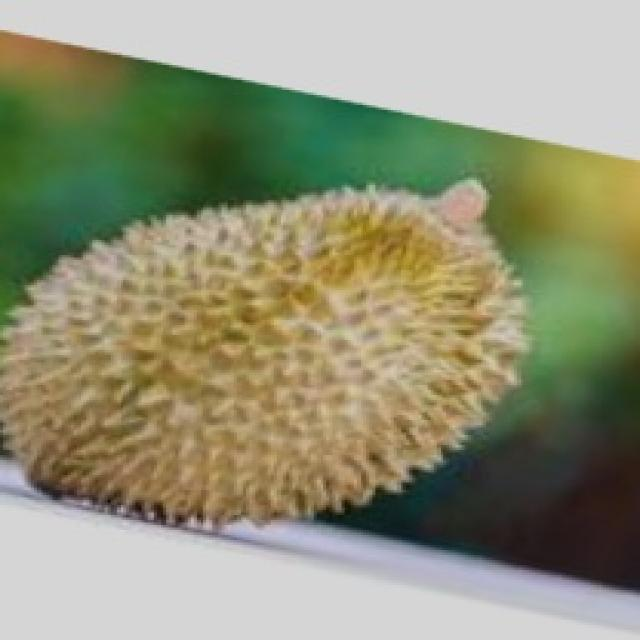fruit: (194, 160, 600, 588), (0, 167, 366, 585)
